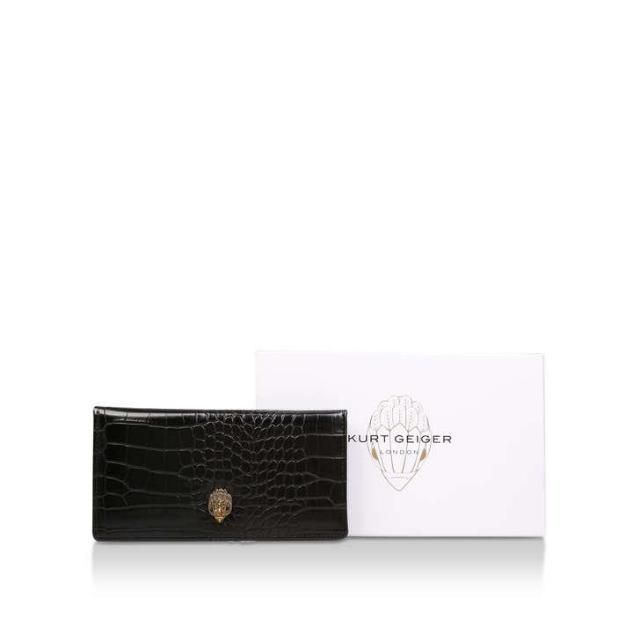wallet: (84, 400, 346, 544)
